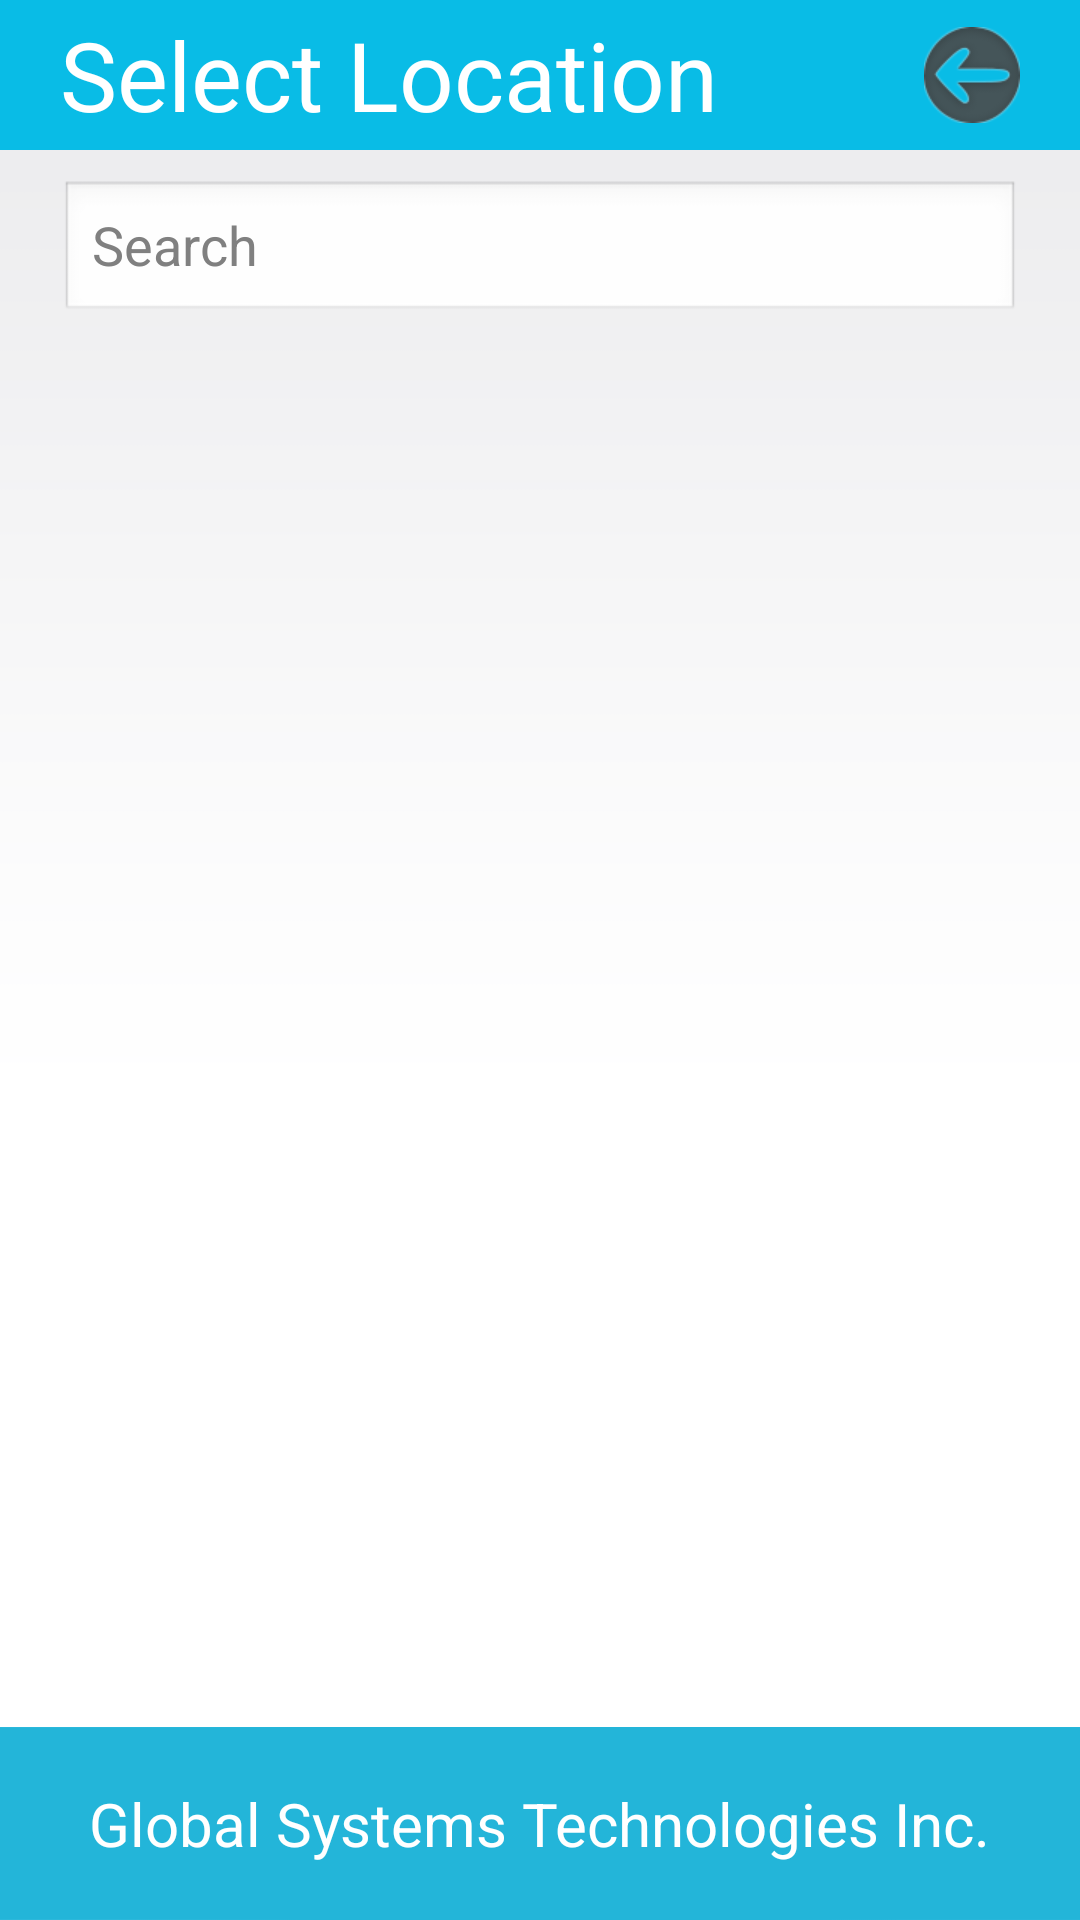

Icons on this 1080x1920 Android screen, each with its box as (x1, y1, x2, y2):
left arrow: (924, 27, 1020, 123)
